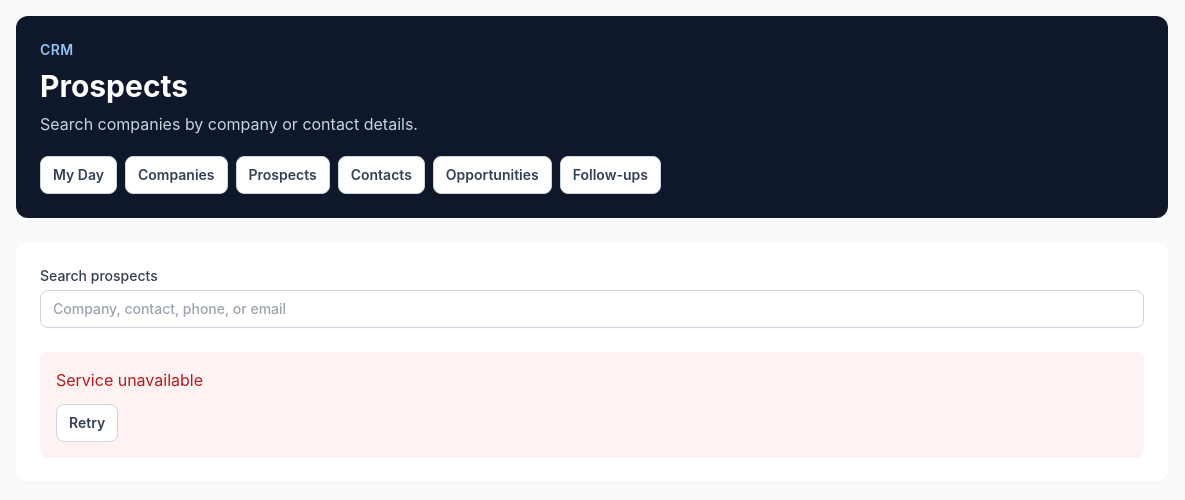
Test: Prospect detail experience › CRM list pages › shows a list request error and retries it
The width and height of the screenshot is (1185, 500).
Expected: the text "Service unavailable" is shown, [56,370,203,390]
What coordinates should you click on to do the following:
click the button "Retry"
I would click on:
 (87, 423)
Its box is [56,404,118,442].
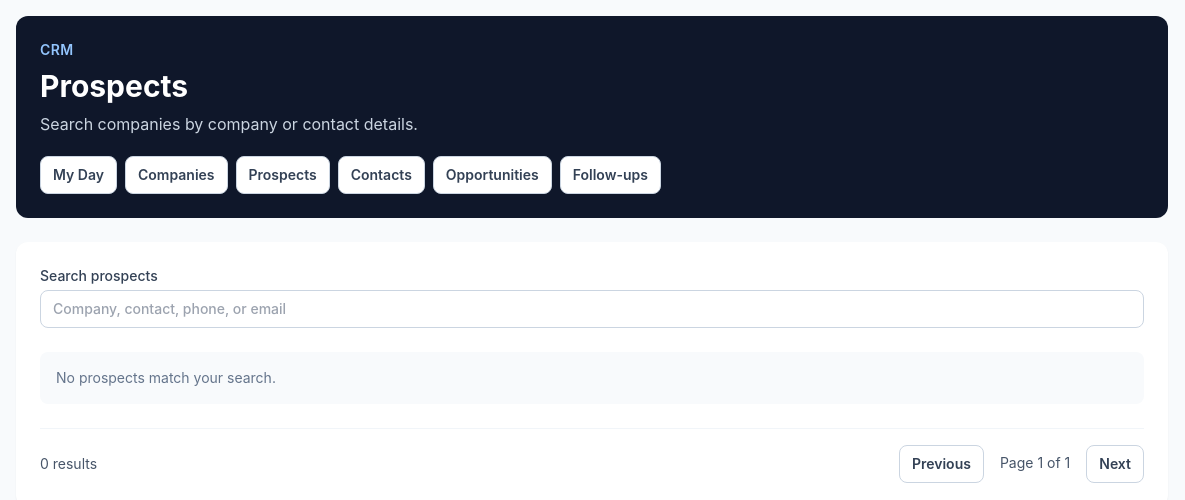
Expected: the text "No prospects match your search." is shown, [40,352,1144,404]
